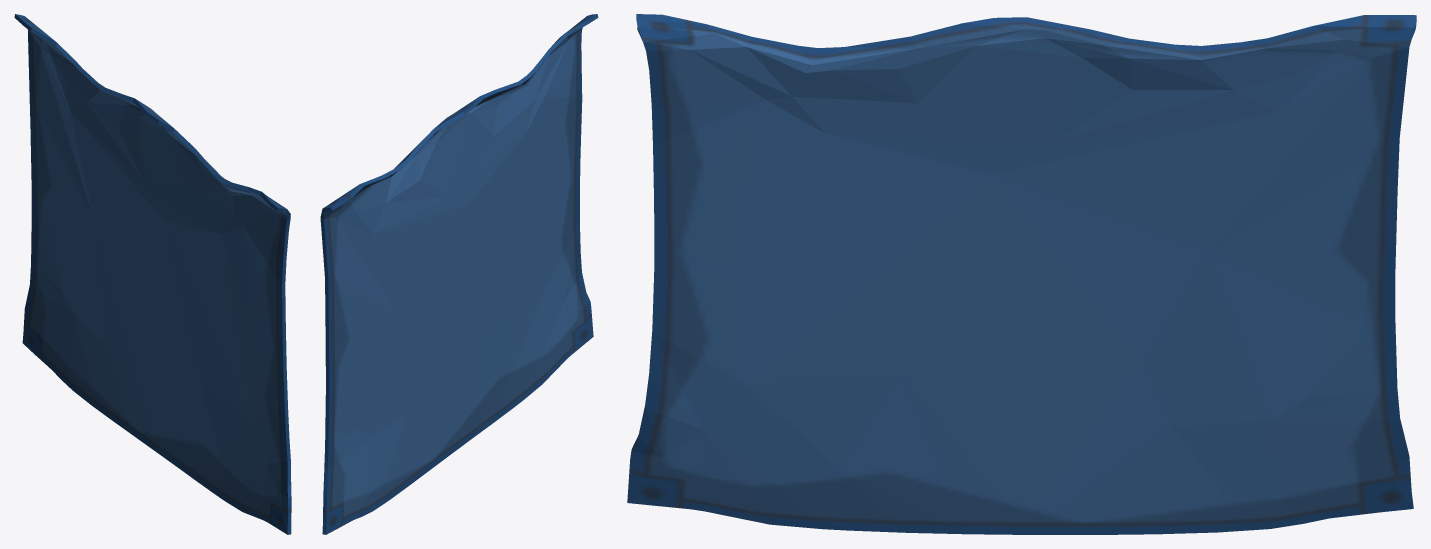
File: SM_Prop_Scaffold_Stackable_01_Tarp_2.fbx
3 renders of one model, left to right at view 1: azimuth 30°, elevation 25°; view 2: azimuth 150°, elevation 25°; view 3: azimuth 270°, elevation 25°, orthographic. The views are drawn at different scales.
Visible parts, largest first — view 1: SM_Prop_Scaffold_Stackable_01_Tarp_2; view 2: SM_Prop_Scaffold_Stackable_01_Tarp_2; view 3: SM_Prop_Scaffold_Stackable_01_Tarp_2.
Boxes of the visible parts, box(x1,y1,x2,y2) form: SM_Prop_Scaffold_Stackable_01_Tarp_2: box(14, 14, 291, 534); SM_Prop_Scaffold_Stackable_01_Tarp_2: box(320, 14, 598, 534); SM_Prop_Scaffold_Stackable_01_Tarp_2: box(627, 14, 1416, 534).
Size of the model in its own units: 13.27 by 243 by 340.
